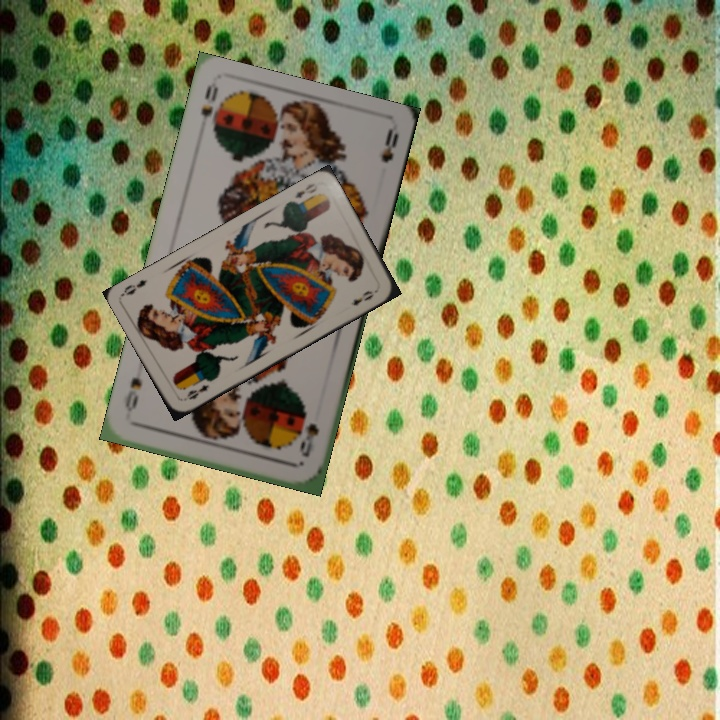EO: (291, 179, 320, 201), (183, 380, 211, 402)
SO: (295, 419, 322, 460), (197, 80, 221, 120)
